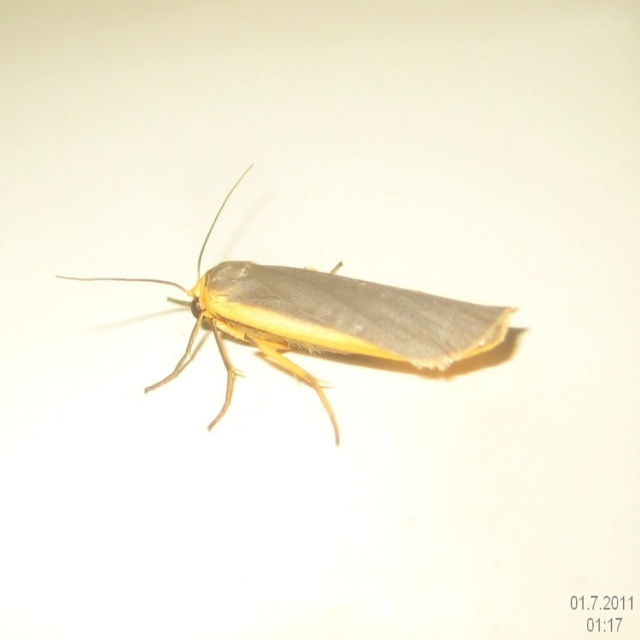Moths and butterflies: (54, 163, 521, 450)
